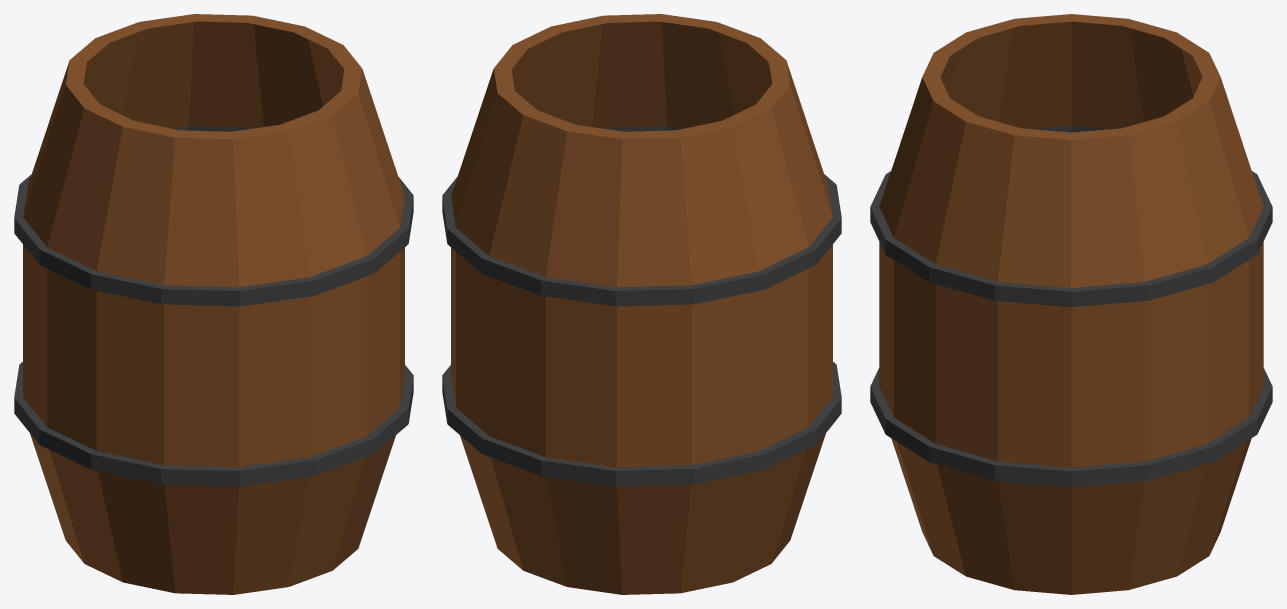
File: barrilaberto.fbx
The picture shows the model from 3 angles, left to right: view 1: azimuth 30°, elevation 25°; view 2: azimuth 150°, elevation 25°; view 3: azimuth 270°, elevation 25°; orthographic projection.
Parts seen in each view (by area): view 1: Cylinder; view 2: Cylinder; view 3: Cylinder.
Part boxes in pixels (<box>): Cylinder: <box>14,14,413,594</box>; Cylinder: <box>442,14,841,594</box>; Cylinder: <box>870,14,1272,594</box>.
Bounding box in the file's own units: 435 × 543 × 435.
